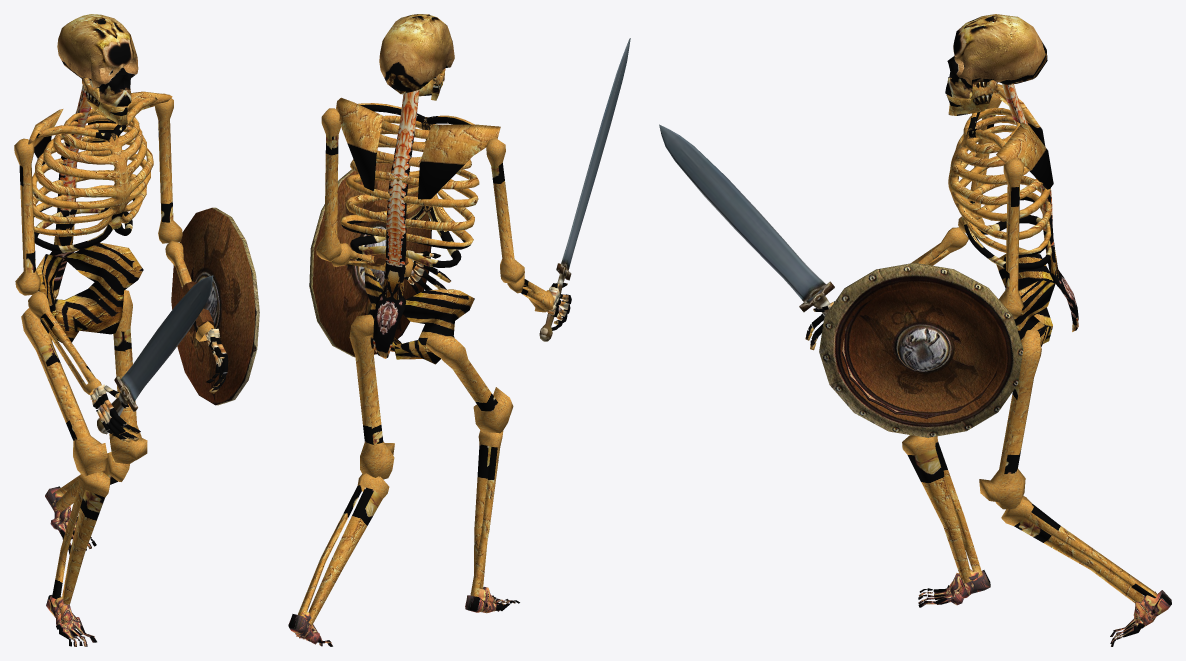
Rendered from Skeleton_000025.obj.
3 views of the same model, side by side, from view 1: azimuth 30°, elevation 25°; view 2: azimuth 150°, elevation 25°; view 3: azimuth 270°, elevation 25° (orthographic). The views are drawn at different scales.
Visible parts, largest first — view 1: Costillar, Shield_Shield.001, Coxis, Femur, Skull, Humero, Tibia, Sword, Radio, Hands, Feet, Omoplato (+1 smaller); view 2: Costillar, Shield_Shield.001, Femur, Tibia, Omoplato, Skull, Humero, Coxis, Sword, Radio, Hands, Feet; view 3: Shield_Shield.001, Costillar, Tibia, Sword, Skull, Femur, Humero, Coxis, Feet, Omoplato, Mandibula, Radio.
Part boxes in pixels (x1,y1,x2,y2): Costillar: (32,80,157,299); Shield_Shield.001: (171,207,259,405); Coxis: (36,242,143,342); Femur: (21,290,147,476); Skull: (57,14,138,106); Humero: (14,93,182,295); Tibia: (52,452,129,604); Sword: (97,275,213,434); Radio: (28,240,214,394); Hands: (90,328,228,442); Feet: (45,486,96,646); Omoplato: (28,91,172,165); Costillar: (340,90,479,358); Shield_Shield.001: (309,163,431,357); Femur: (349,314,513,479); Tibia: (297,430,503,626); Omoplato: (336,97,500,199); Skull: (379,14,454,94); Humero: (315,108,524,283); Coxis: (364,267,474,364); Sword: (539,38,630,341); Radio: (331,243,554,312); Hands: (404,250,571,330); Feet: (288,587,519,646); Shield_Shield.001: (819,262,1023,437); Costillar: (948,83,1078,331); Tibia: (902,435,1156,602); Sword: (659,124,834,315); Skull: (945,14,1047,98); Femur: (979,329,1041,509); Humero: (958,94,1024,319); Coxis: (996,247,1055,346); Feet: (918,569,1171,646); Omoplato: (986,82,1053,189); Mandibula: (946,79,997,115); Radio: (911,227,968,265).
Size of the model in its own units: 2.84 by 8.47 by 6.44.
Materials: 5 (5 with a texture image).
